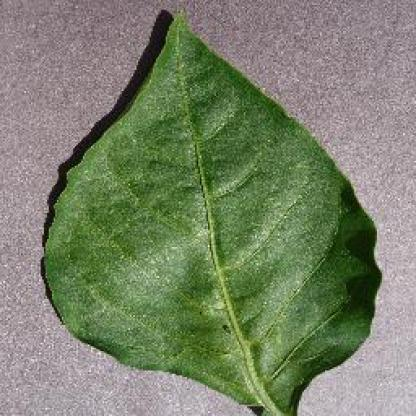good leaf: (74, 70, 302, 364)
